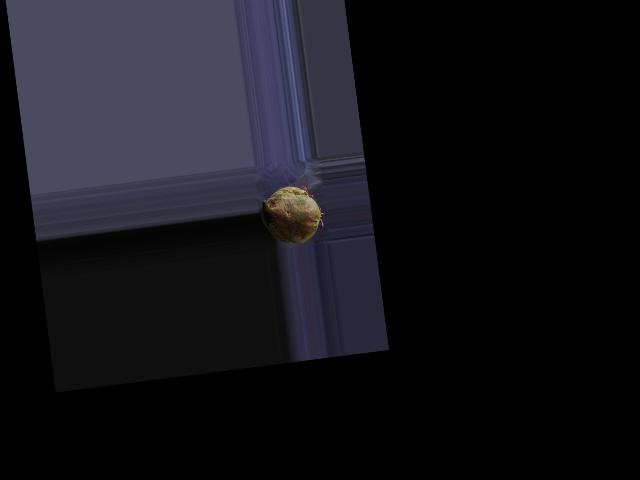beet: (257, 182, 326, 247)
